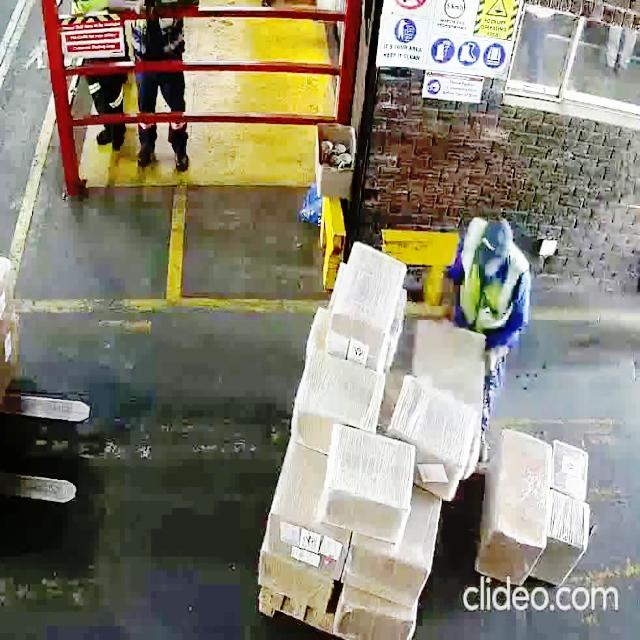Box: (326, 428, 413, 536), (332, 237, 397, 355), (494, 436, 546, 562), (399, 386, 470, 476), (264, 501, 345, 574), (299, 352, 376, 423), (356, 527, 431, 594), (258, 546, 332, 613), (543, 492, 584, 590), (340, 599, 416, 640), (549, 434, 594, 502)
